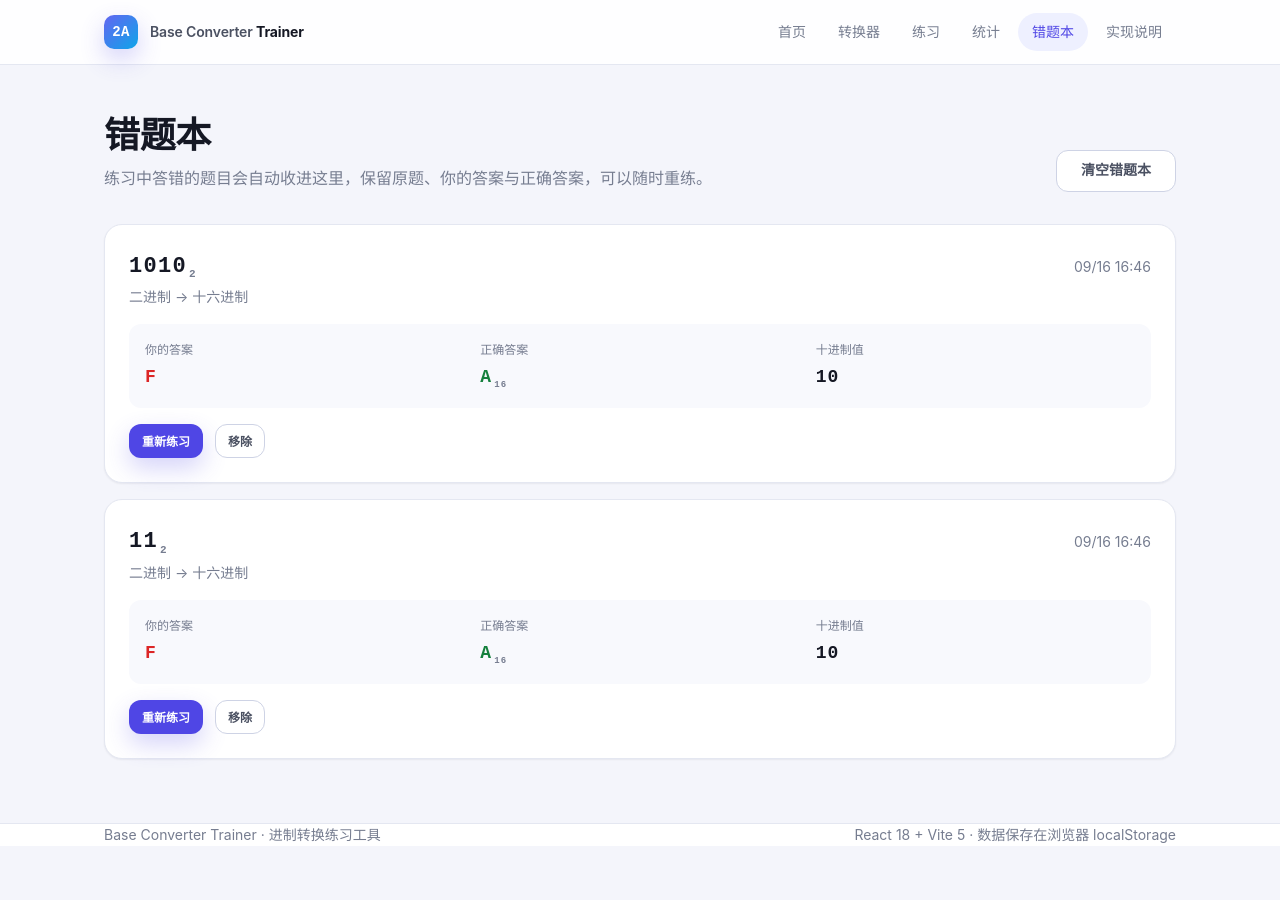
Scenario: 错题本 · 展示 › 多条错题全部展示，清空前的确认文案会带上条数
Expected: the number of list items with class "mistake-item" is 2, [104, 224, 1176, 483]; [104, 499, 1176, 759]
What coordinates should you click on to do the following:
click the button "清空错题本"
I would click on:
 (1116, 171)
Its box is [1056, 150, 1176, 192].
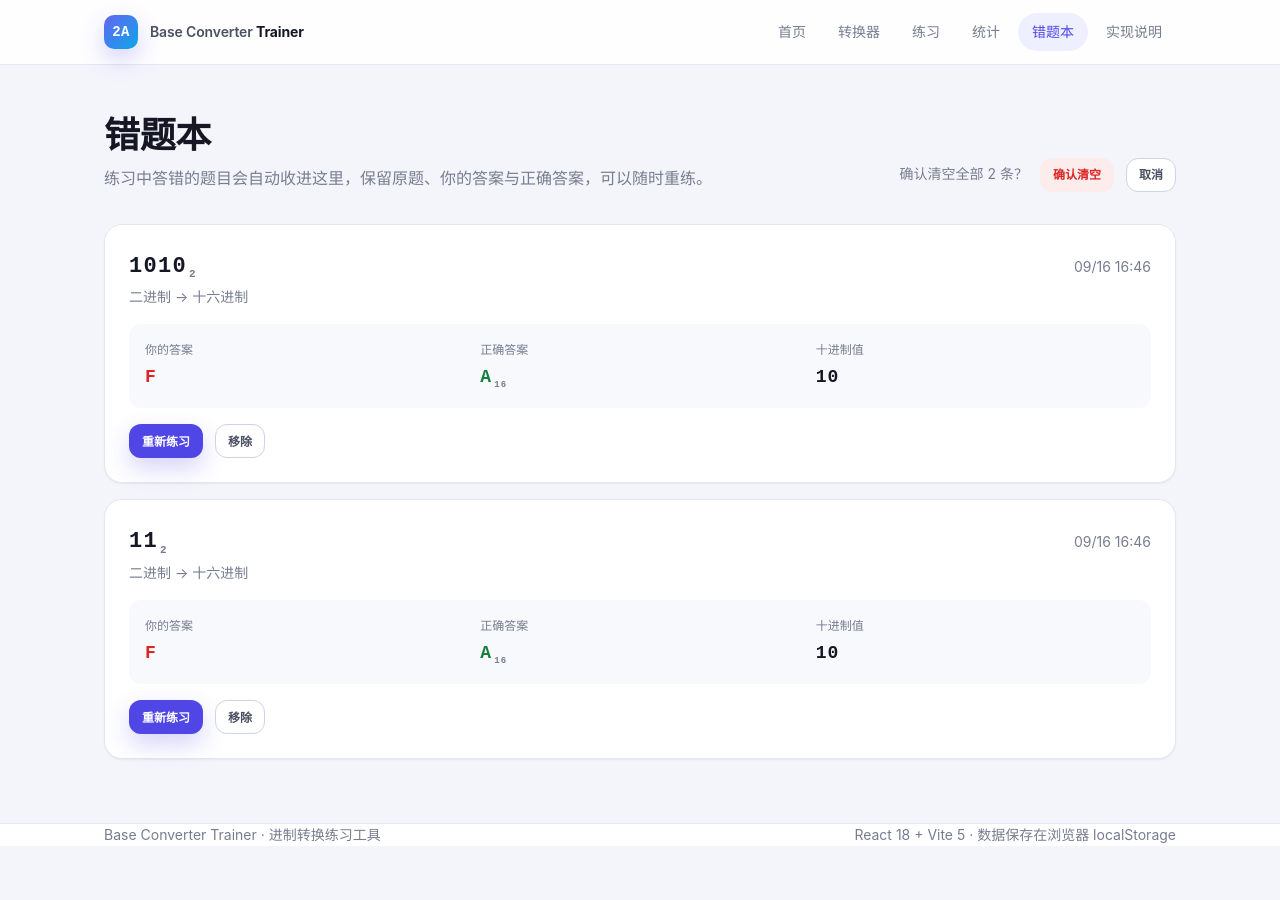
Expected: the text "确认清空全部 2 条？" is shown, [900, 163, 1028, 186]
